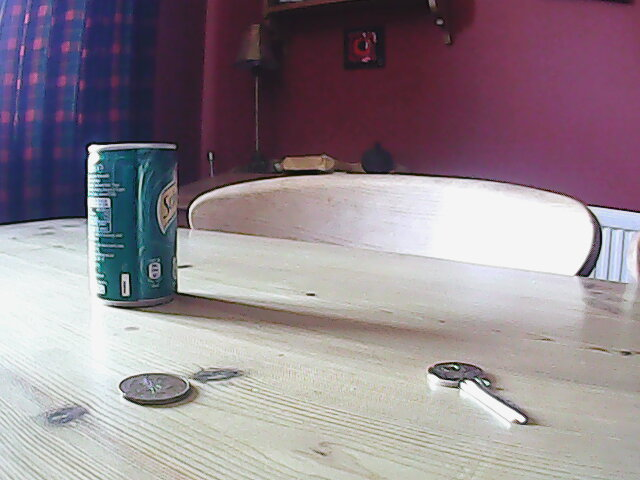Can: (82, 140, 186, 308)
Coin: (117, 371, 194, 407)
Key: (424, 359, 532, 429)
